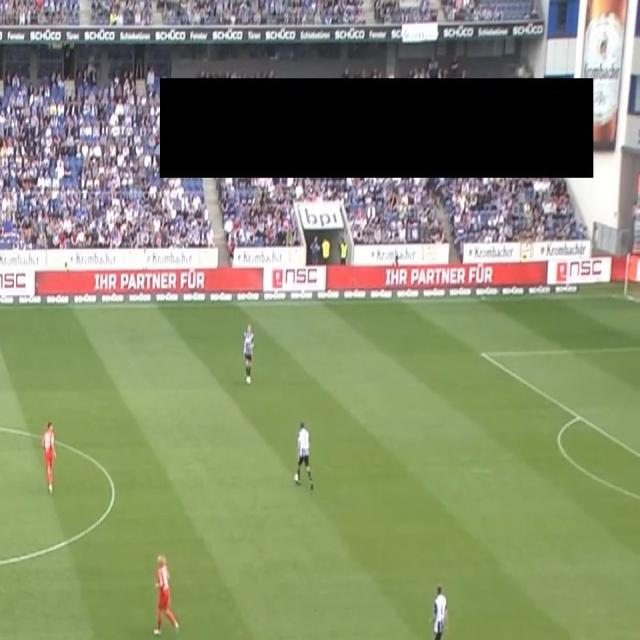ball: (294, 471, 301, 484)
